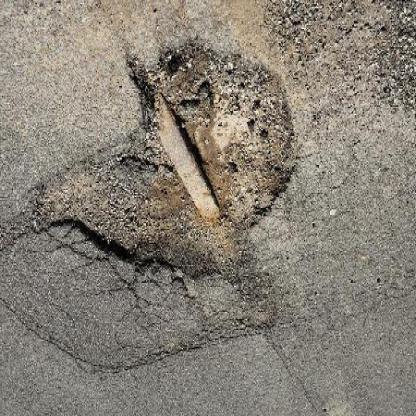pothole: (32, 37, 303, 287)
